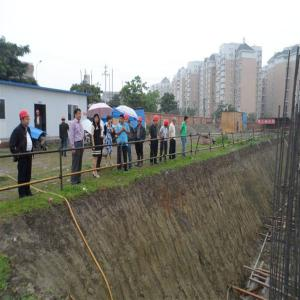none: (74, 109, 83, 122), (94, 114, 100, 125), (107, 116, 113, 126), (185, 115, 190, 125), (120, 115, 125, 124), (173, 117, 178, 125)
red: (20, 110, 31, 127), (153, 116, 160, 126), (137, 117, 143, 127), (164, 119, 170, 129), (124, 115, 130, 124), (37, 111, 41, 118), (62, 117, 66, 124)
